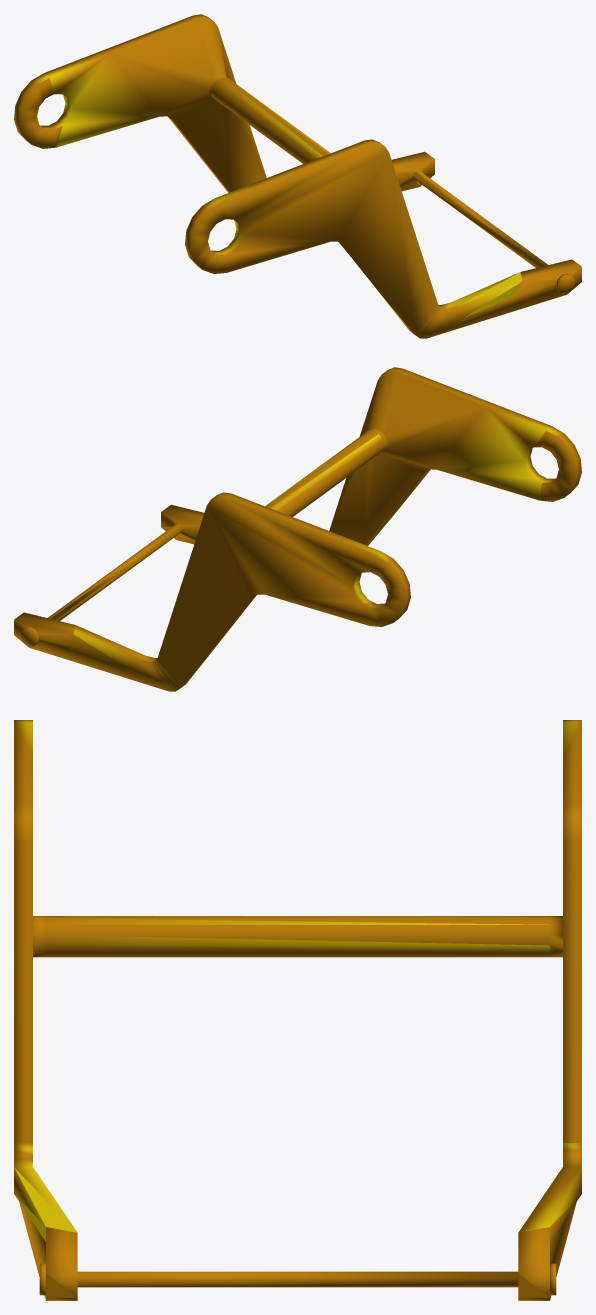
File: bucket_arm_nocylinder_wide.dae
3 views of the same model, one above another, from view 1: azimuth 30°, elevation 25°; view 2: azimuth 150°, elevation 25°; view 3: azimuth 270°, elevation 25° (orthographic). The views are drawn at different scales.
Parts seen in each view (by area): view 1: node0; view 2: node0; view 3: node0.
Boxes of the visible parts, left/top/right/bottom form: node0: left=14, top=14, right=581, bottom=338; node0: left=14, top=367, right=581, bottom=691; node0: left=14, top=720, right=581, bottom=1300.
Size of the model in its own units: 2.33 by 1.78 by 1.15.
